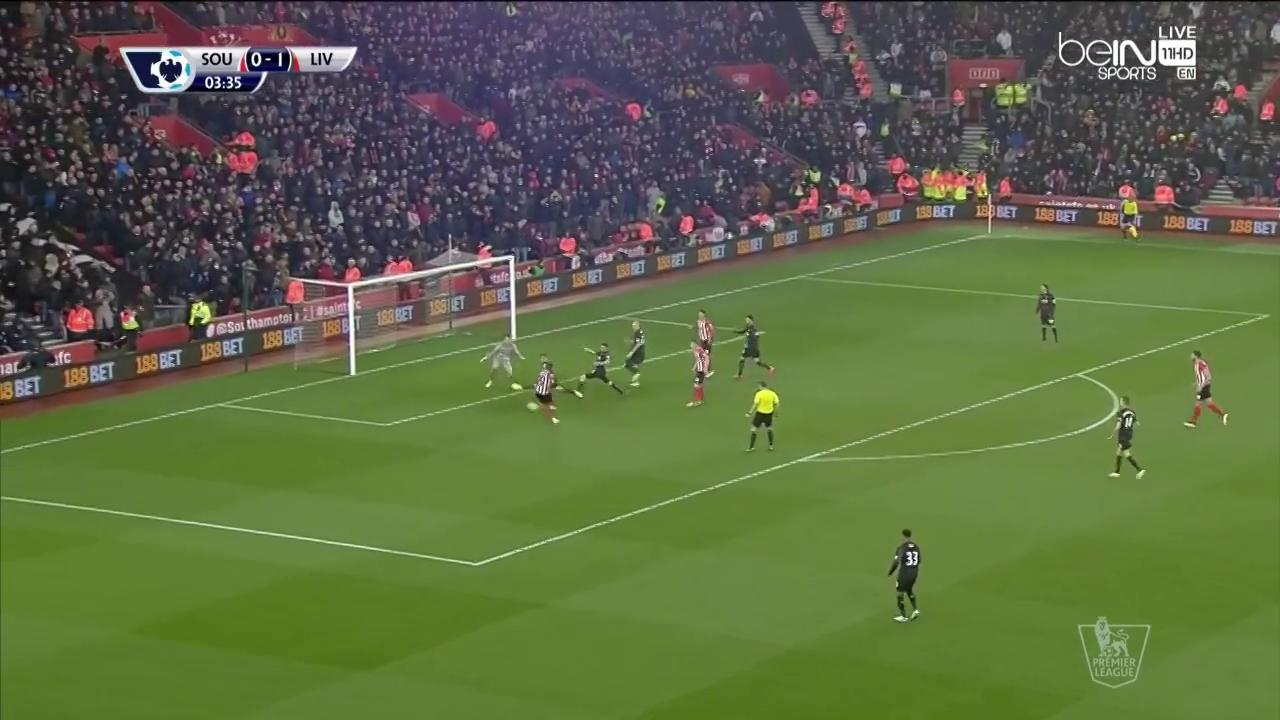football: (525, 400, 539, 414)
